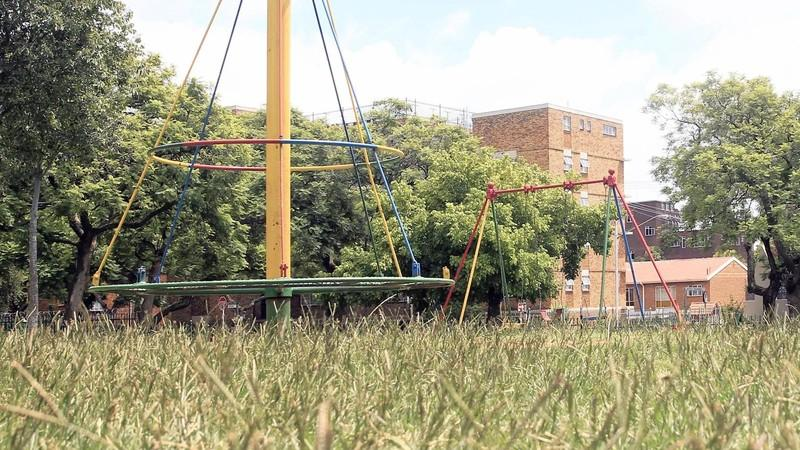overgrown grass: (0, 317, 799, 449)
